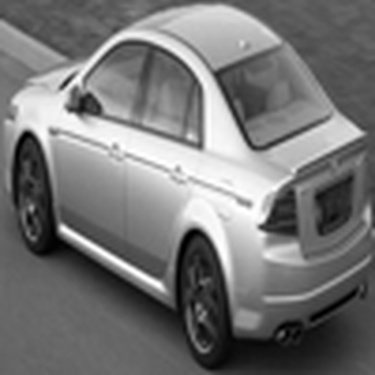car: (1, 11, 369, 359)
